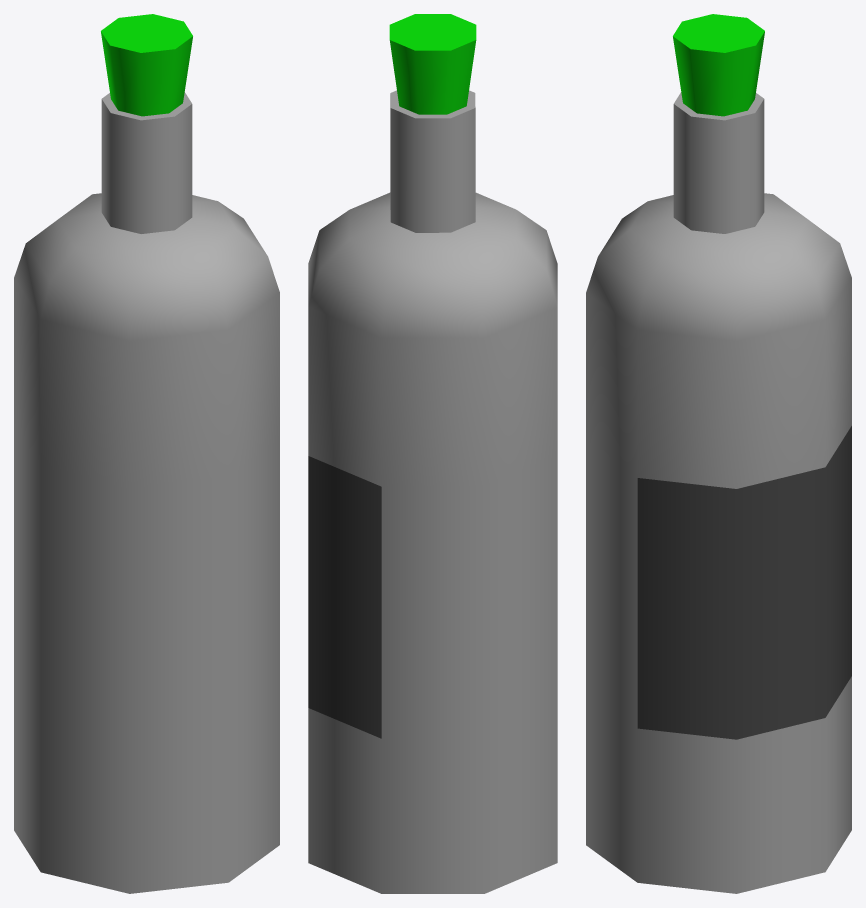
Rendered from Bottle_3.fbx.
The picture shows the model from 3 angles, left to right: view 1: azimuth 30°, elevation 25°; view 2: azimuth 150°, elevation 25°; view 3: azimuth 270°, elevation 25°; orthographic projection.
Visible parts, largest first — view 1: Kitchen_Bottle_3; view 2: Kitchen_Bottle_3; view 3: Kitchen_Bottle_3.
Boxes of the visible parts, left/top/right/bottom form: Kitchen_Bottle_3: left=14, top=14, right=279, bottom=893; Kitchen_Bottle_3: left=308, top=14, right=557, bottom=893; Kitchen_Bottle_3: left=586, top=14, right=851, bottom=893.
Bounding box in the file's own units: 12.57 × 41.95 × 12.57.
